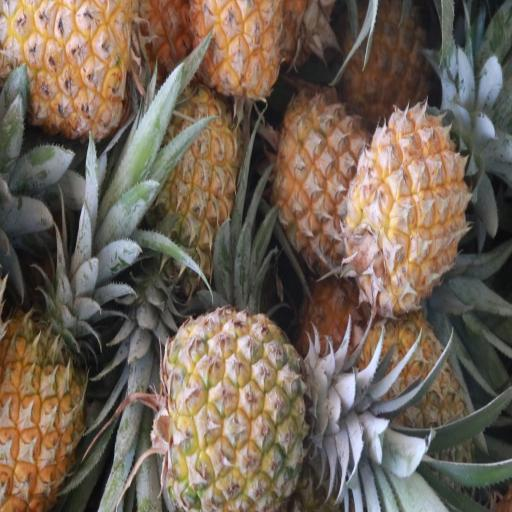------------------------------: (164, 308, 322, 512), (358, 320, 472, 483), (274, 97, 369, 278)
Pineapple - v8 v1: (348, 108, 467, 309), (0, 0, 131, 148), (0, 315, 89, 512), (153, 92, 237, 294), (343, 1, 432, 129), (197, 2, 286, 106)
